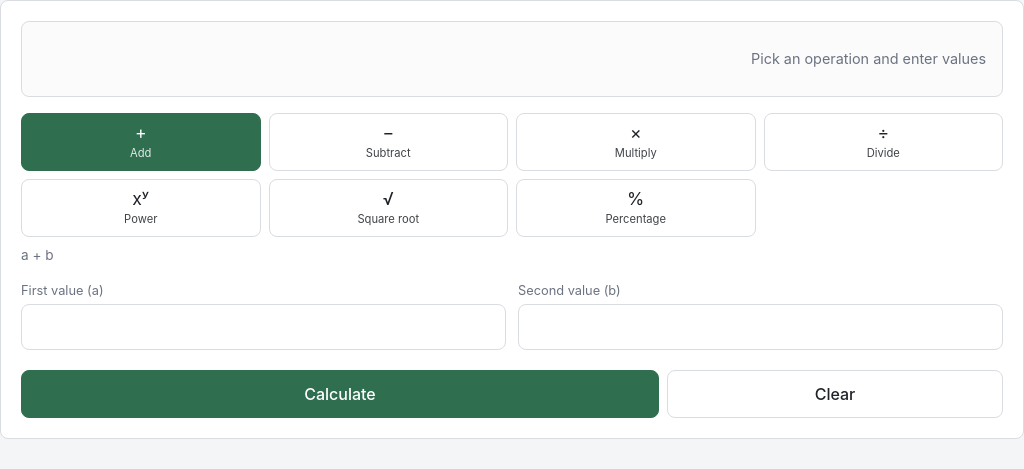
Test: Calculator › hides the second operand for square root and omits it from the request
Click the button "√ Square root". click: (388, 208)
box: [268,179,508,237]
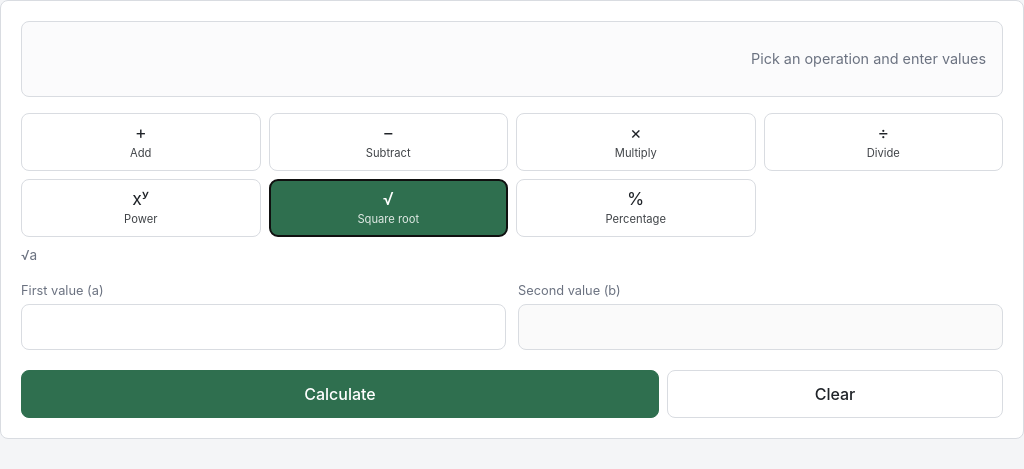
Type "81" into the field labelled "First value (a)". click: (264, 327)
box: [21,304,506,350]
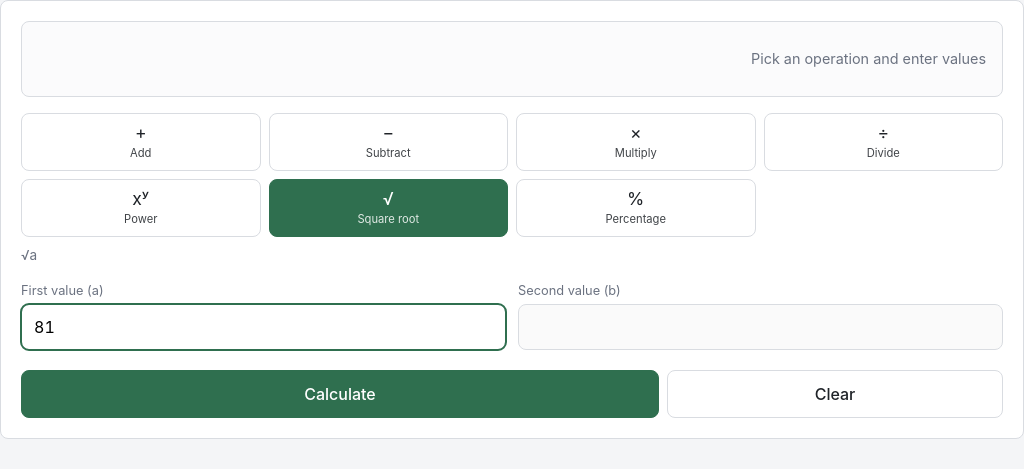
Click the button "Calculate". click: (340, 394)
box: [21,370,659,418]
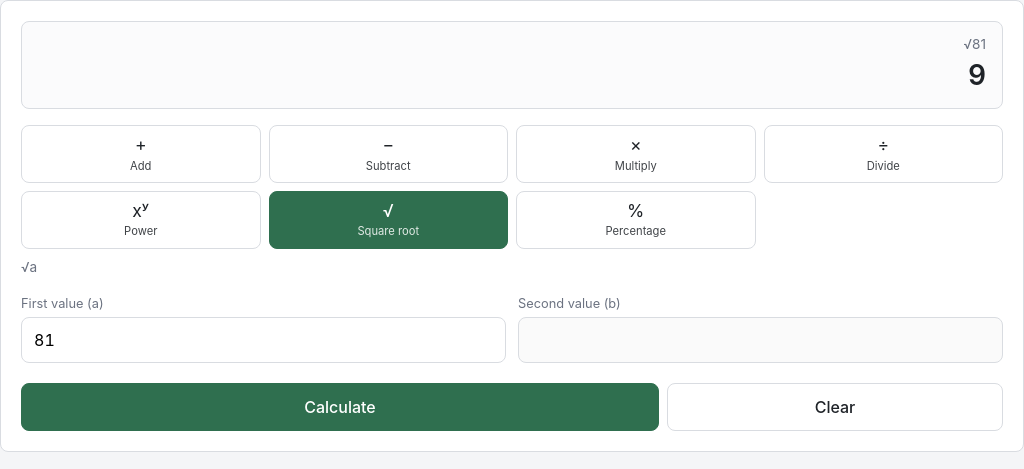
Result: the text "9" is shown at [968,54,986,96]
